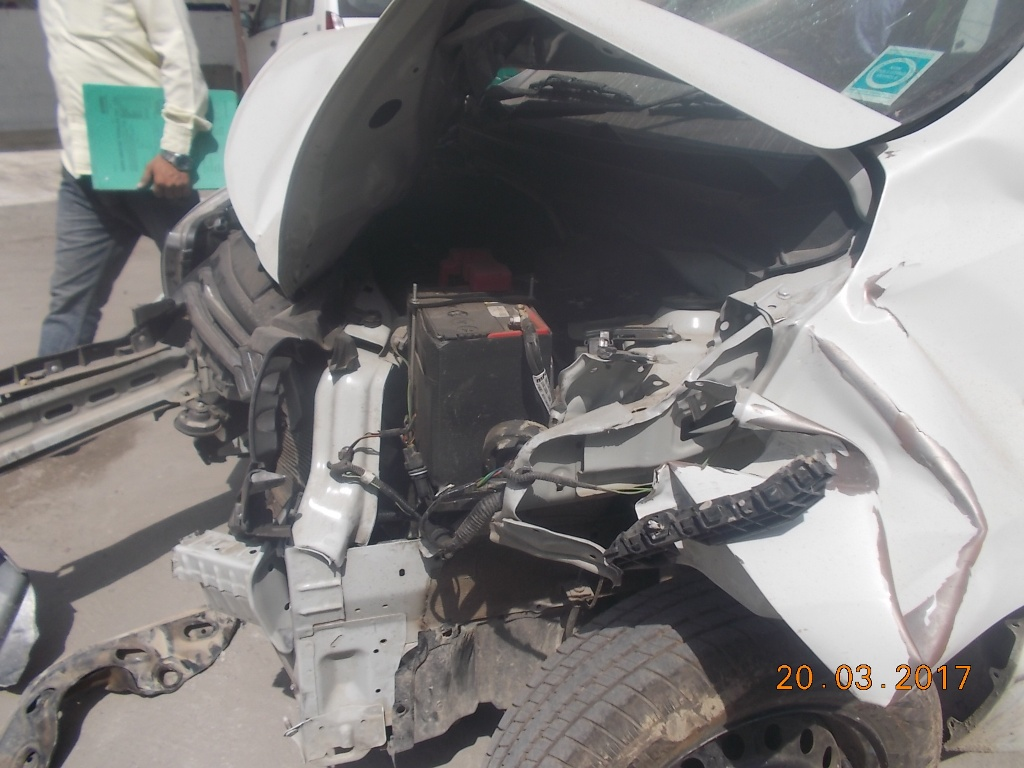Large_tear_or_damage: (162, 67, 1000, 748)
